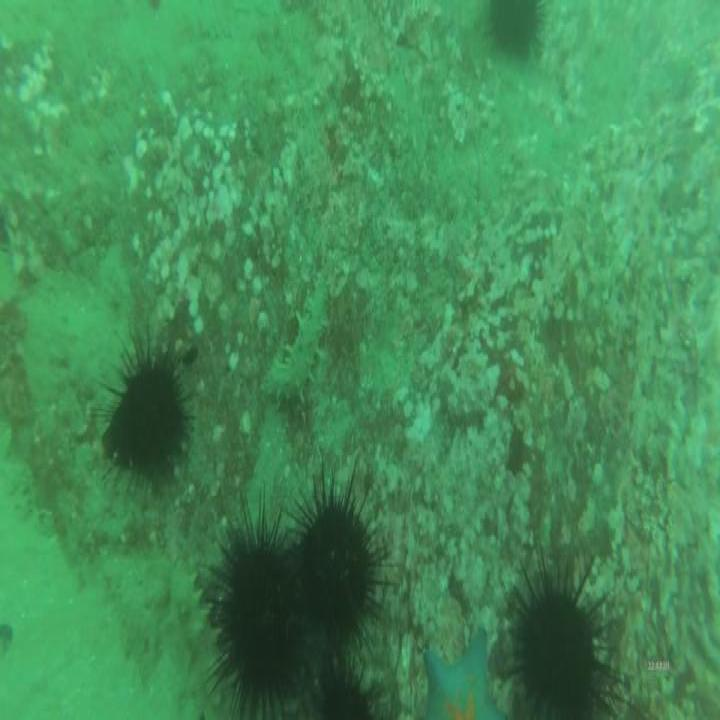echinus: (203, 490, 308, 716), (500, 540, 627, 720), (283, 460, 389, 656), (95, 325, 198, 507), (290, 654, 392, 720), (477, 0, 551, 66)
holothurian: (168, 558, 220, 720), (264, 276, 327, 404)
starfish: (415, 613, 501, 720)
